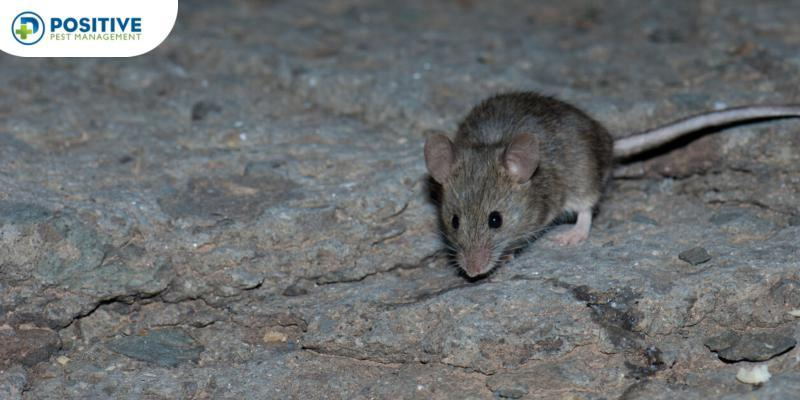rat: (424, 92, 800, 278)
